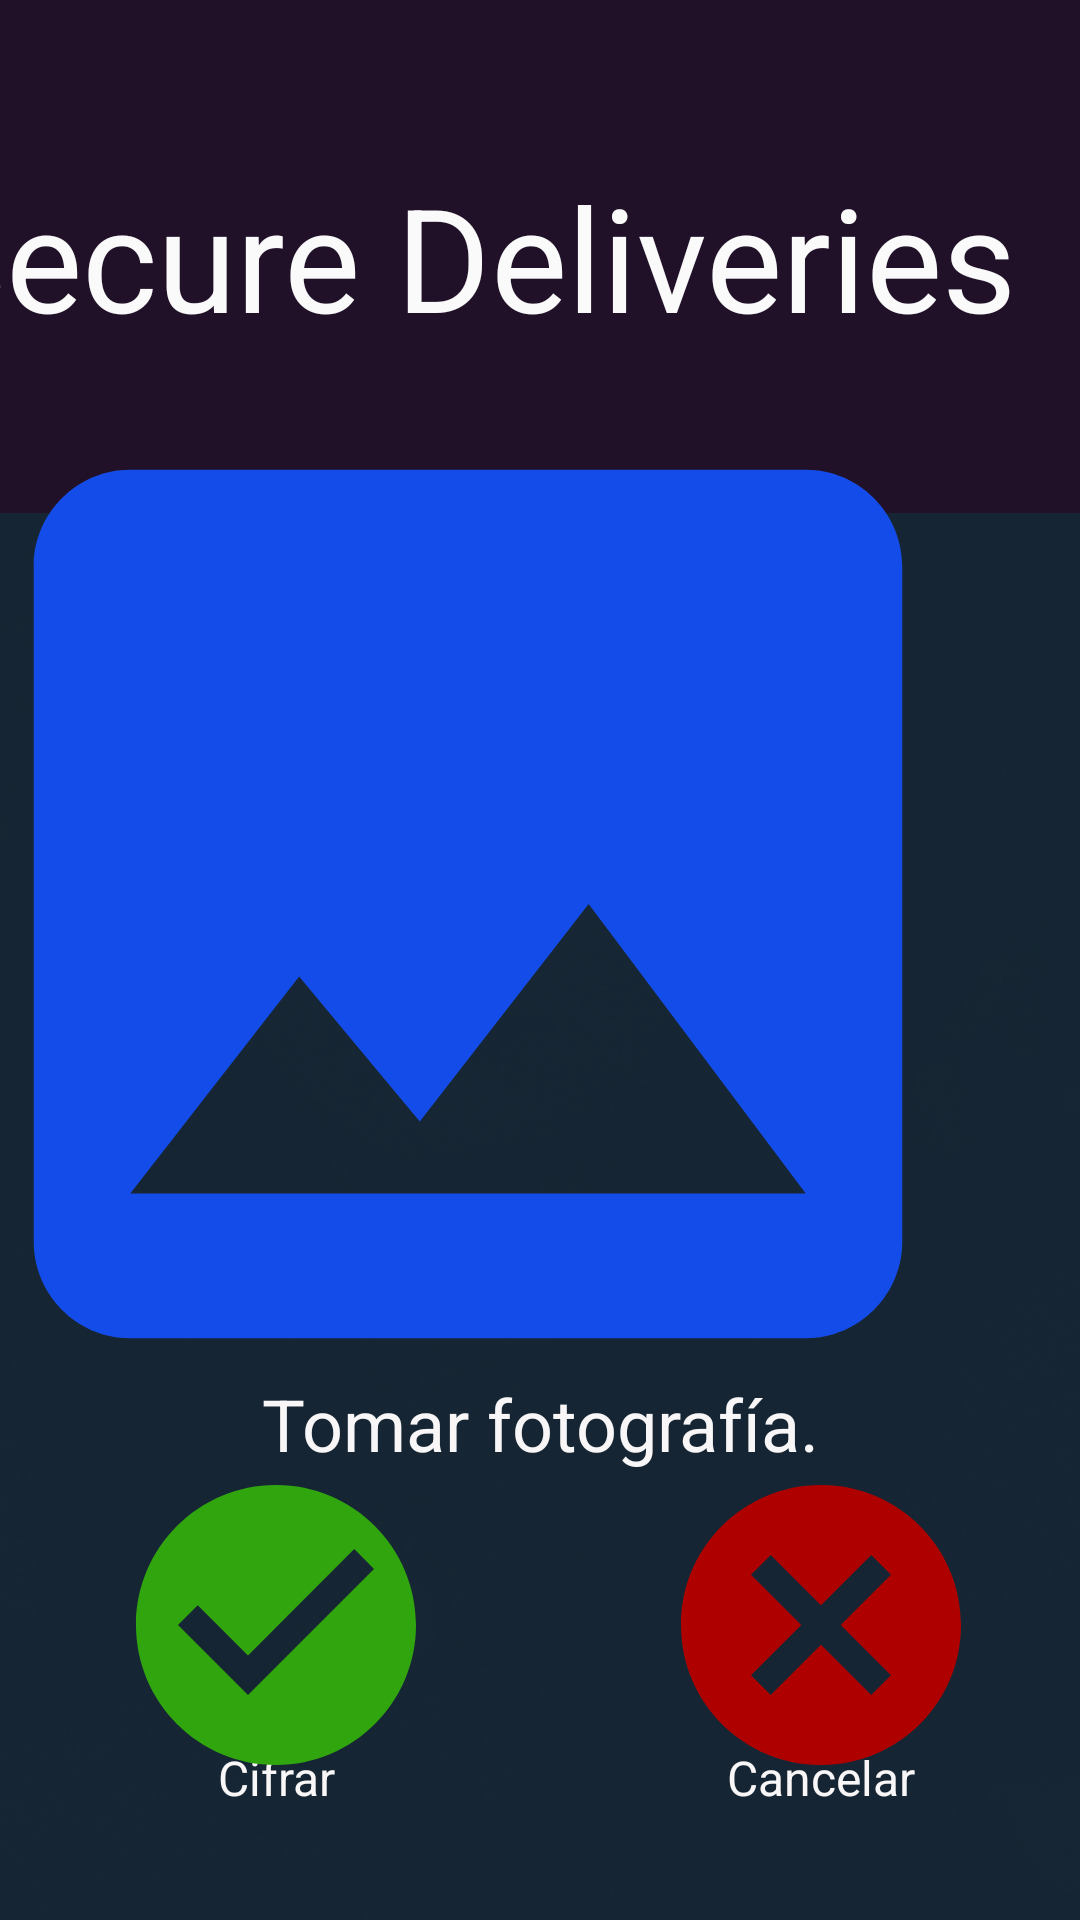

Where icons sit on this 1080*1920 app screen, as (x1, y1, x2, y2):
check circle: (136, 1485, 416, 1793)
